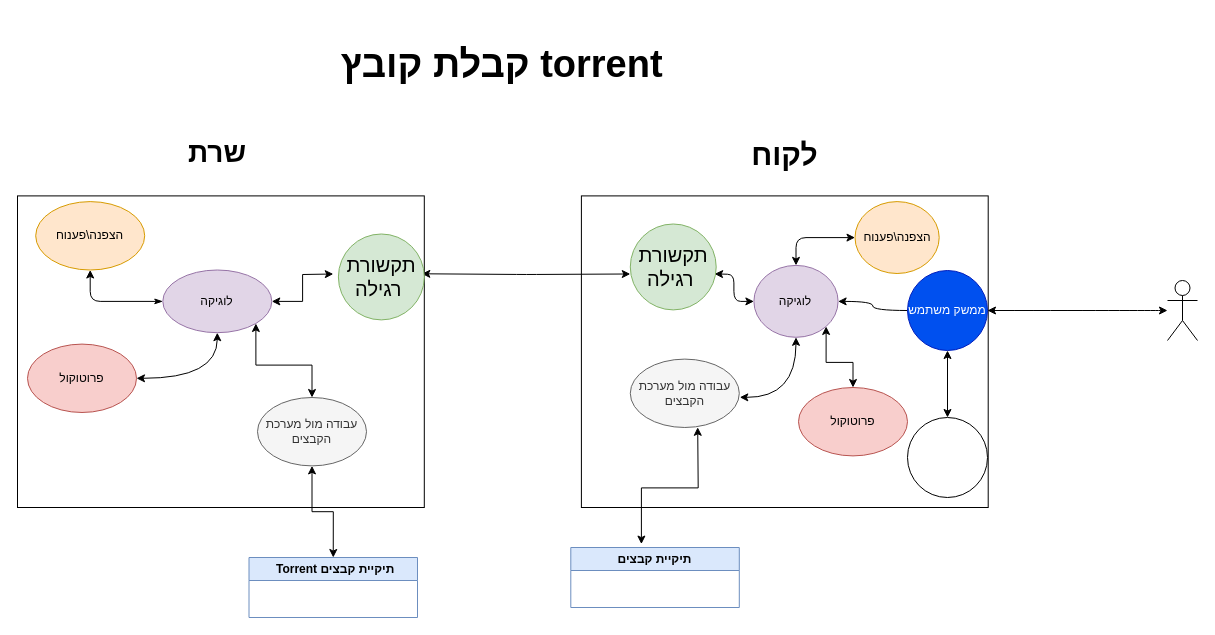
Some shapes in this 1215 by 635 pixel diagram are drawn without their labels. Each missing label, with the box of its shape:
Actor: (1166, 280, 1198, 340)
תקינות: (906, 416, 988, 498)
